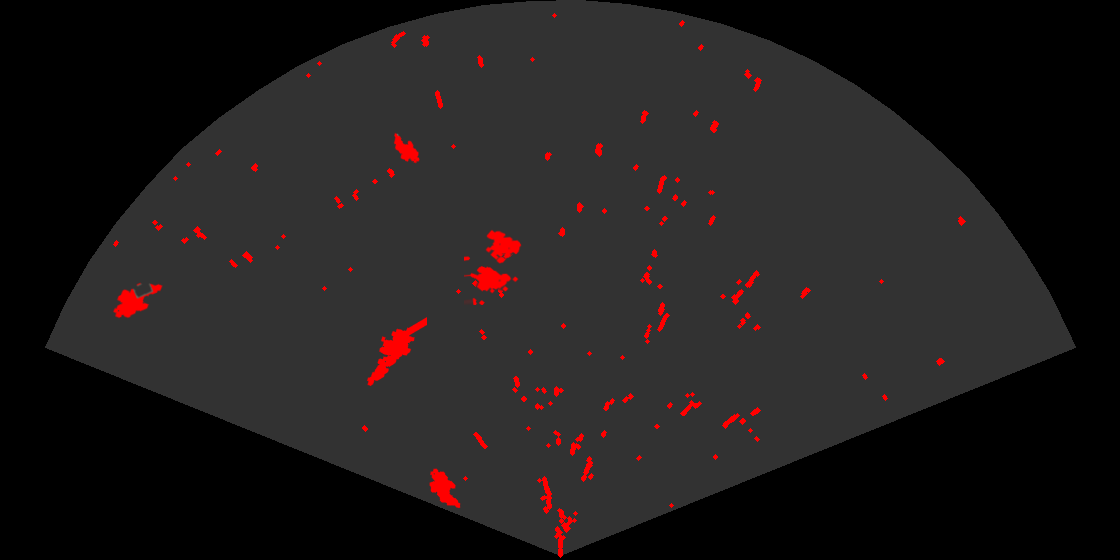AUV: (112, 281, 164, 320), (428, 467, 462, 510), (392, 131, 421, 165)
cage: (464, 228, 523, 305)
frogman: (365, 316, 427, 388)
